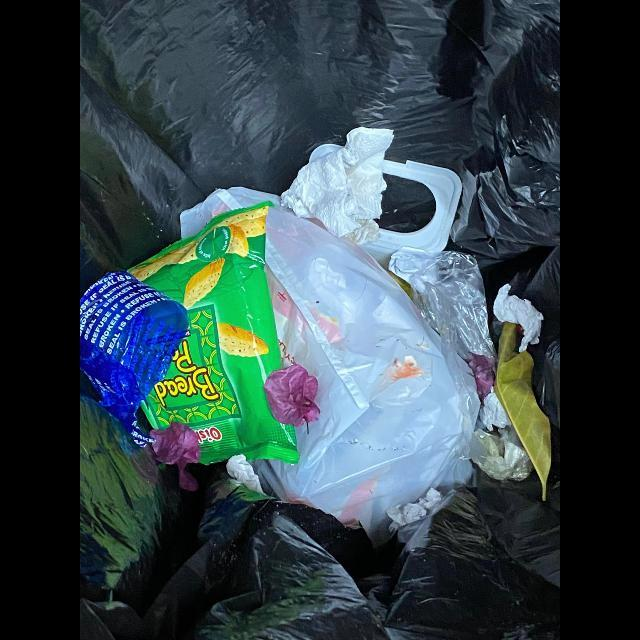food_wrapper: (128, 201, 300, 467), (80, 271, 190, 447)
paper: (278, 127, 393, 248), (493, 284, 544, 353)
plastic_bag: (180, 188, 480, 535), (388, 249, 497, 362)
